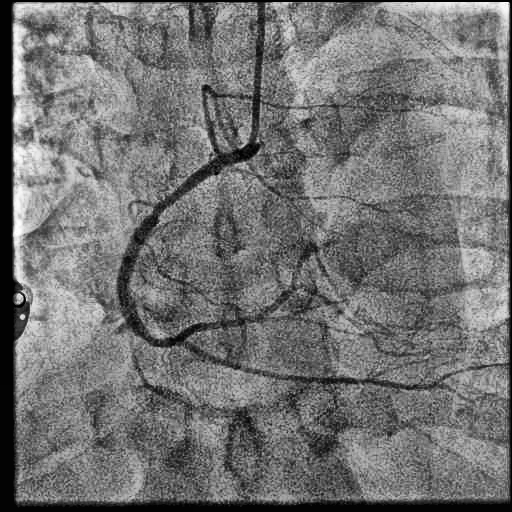pborca: (183, 244, 315, 337)
pda: (182, 342, 433, 390)
rca: (116, 148, 248, 347)
